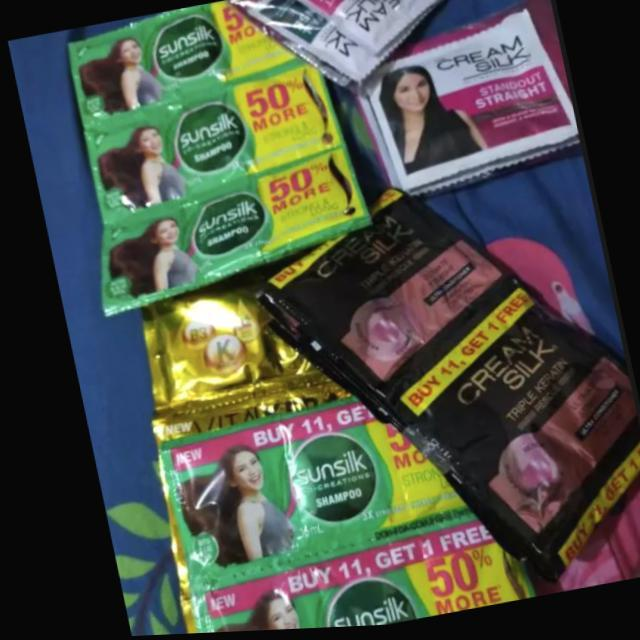wrapper: (371, 285, 640, 583), (248, 190, 517, 427), (153, 406, 470, 596), (96, 147, 369, 317), (83, 63, 340, 222), (362, 14, 578, 200), (183, 526, 528, 635), (137, 286, 344, 442), (67, 2, 295, 124), (228, 0, 450, 90)
